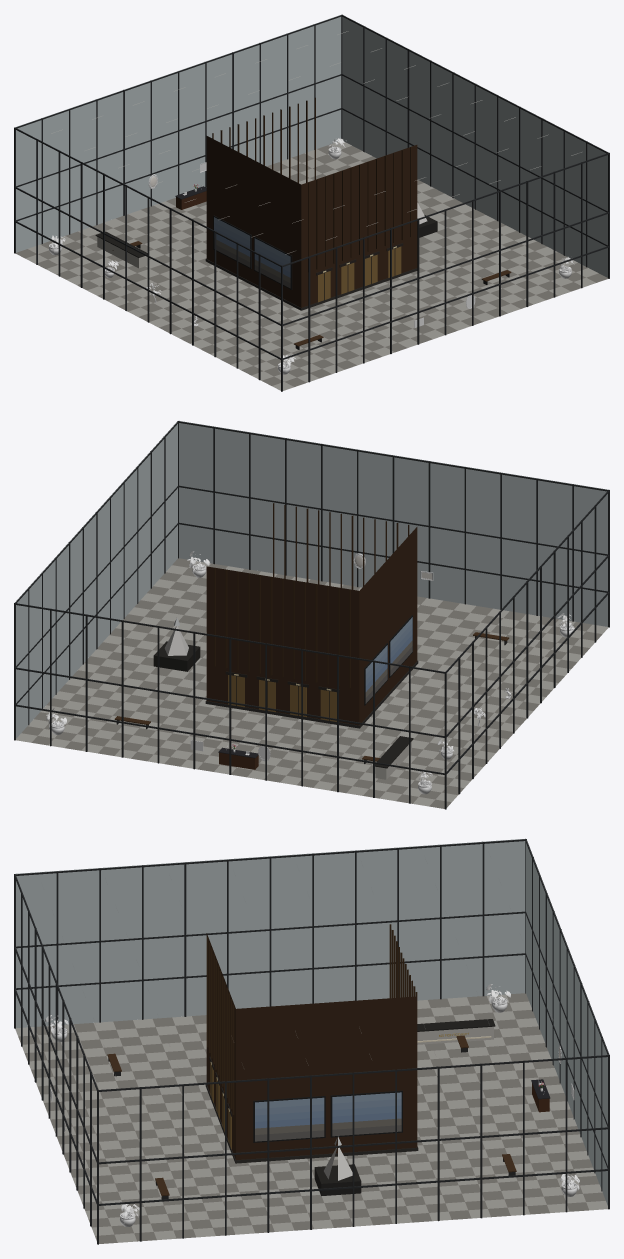
Rendered from transamerica_int.glb.
3 renders of one model, top to bottom at view 1: azimuth 30°, elevation 25°; view 2: azimuth 150°, elevation 25°; view 3: azimuth 270°, elevation 25°, orthographic. The views are drawn at different scales.
Visible parts, largest first — view 1: I_glassI, I_x_marble_black, I_x_veneer, I_metal, I_screen, I_x_gold, I_p_potted_plant_02__0, I_ceilglow, I_x_marble_white; view 2: I_glassI, I_x_marble_black, I_x_veneer, I_metal, I_x_gold, I_screen, I_p_potted_plant_02__1, I_p_potted_plant_02__0; view 3: I_glassI, I_x_marble_black, I_metal, I_x_veneer, I_screen, I_x_marble_white, I_p_potted_plant_02__1, I_p_potted_plant_02__0, I_x_gold.
Part boxes in pixels (box(x1,y1,x2,y2)): I_glassI: box(15, 14, 608, 277); I_x_marble_black: box(15, 142, 607, 390); I_x_veneer: box(112, 97, 511, 346); I_metal: box(14, 14, 609, 391); I_screen: box(214, 217, 290, 288); I_x_gold: box(317, 246, 401, 302); I_p_potted_plant_02__0: box(49, 147, 571, 374); I_ceilglow: box(51, 31, 581, 254); I_x_marble_white: box(97, 237, 147, 268); I_glassI: box(15, 421, 608, 738); I_x_marble_black: box(16, 558, 608, 808); I_x_veneer: box(114, 503, 509, 769); I_metal: box(14, 421, 609, 809); I_x_gold: box(228, 675, 336, 721); I_screen: box(365, 617, 412, 703); I_p_potted_plant_02__1: box(46, 551, 574, 787); I_p_potted_plant_02__0: box(51, 564, 573, 794); I_glassI: box(15, 838, 608, 1205); I_x_marble_black: box(15, 993, 607, 1243); I_metal: box(14, 839, 609, 1244); I_x_veneer: box(107, 924, 549, 1196); I_screen: box(255, 1092, 401, 1141); I_x_marble_white: box(417, 1026, 493, 1044); I_p_potted_plant_02__1: box(45, 984, 579, 1218); I_p_potted_plant_02__0: box(51, 997, 577, 1226); I_x_gold: box(210, 1033, 468, 1149).
Bounding box in the file's own units: 44.09 × 12.6 × 44.09.
